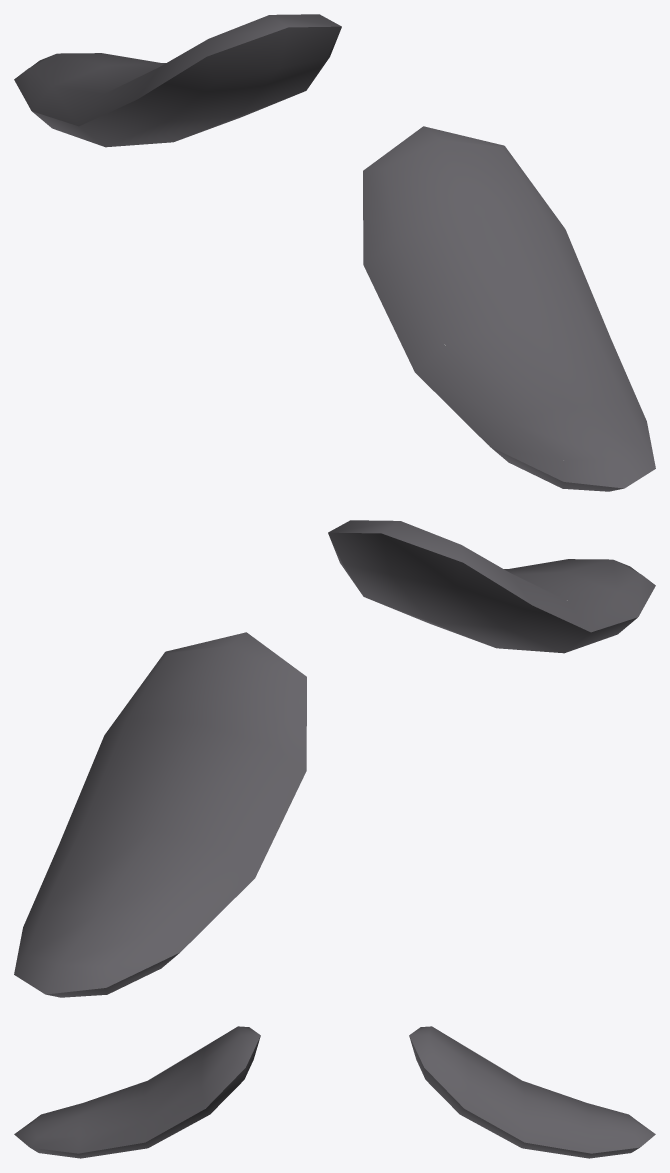
Rendered from Seal Flippers.fbx.
3 views of the same model, one above another, from view 1: azimuth 30°, elevation 25°; view 2: azimuth 150°, elevation 25°; view 3: azimuth 270°, elevation 25° (orthographic). The views are drawn at different scales.
Visible parts, largest first — view 1: Seal Flippers; view 2: Seal Flippers; view 3: Seal Flippers.
Boxes of the visible parts, <box> form: Seal Flippers: <box>14,14,655,491</box>; Seal Flippers: <box>14,520,655,997</box>; Seal Flippers: <box>14,1026,655,1158</box>.
Bounding box in the file's own units: 1.38 × 6.95 × 1.38.
